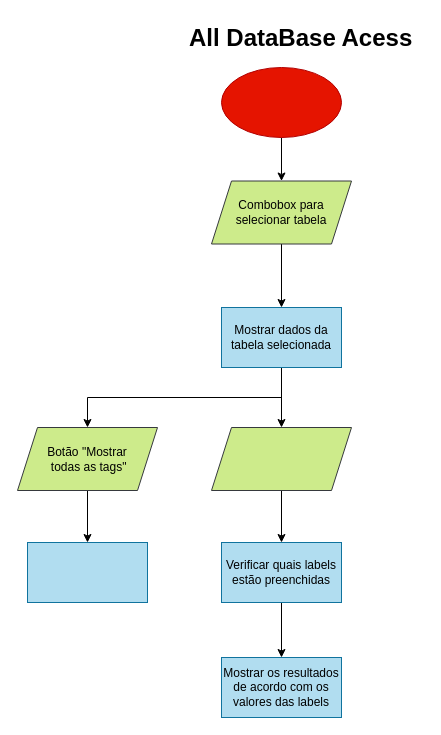
Some shapes in this 441 by 735 pixel diagram are drawn without their labels. Here are the shapes that lost their labels. From the top down, the centre of each, then its label:
the point at 281,102: INICIO
the point at 281,458: Botão "procurar"
the point at 87,572: Atualizar dados mostrados
